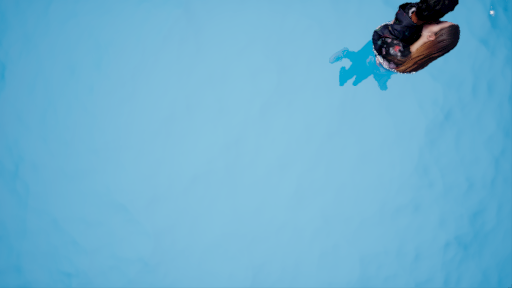person: (345, 1, 472, 85)
